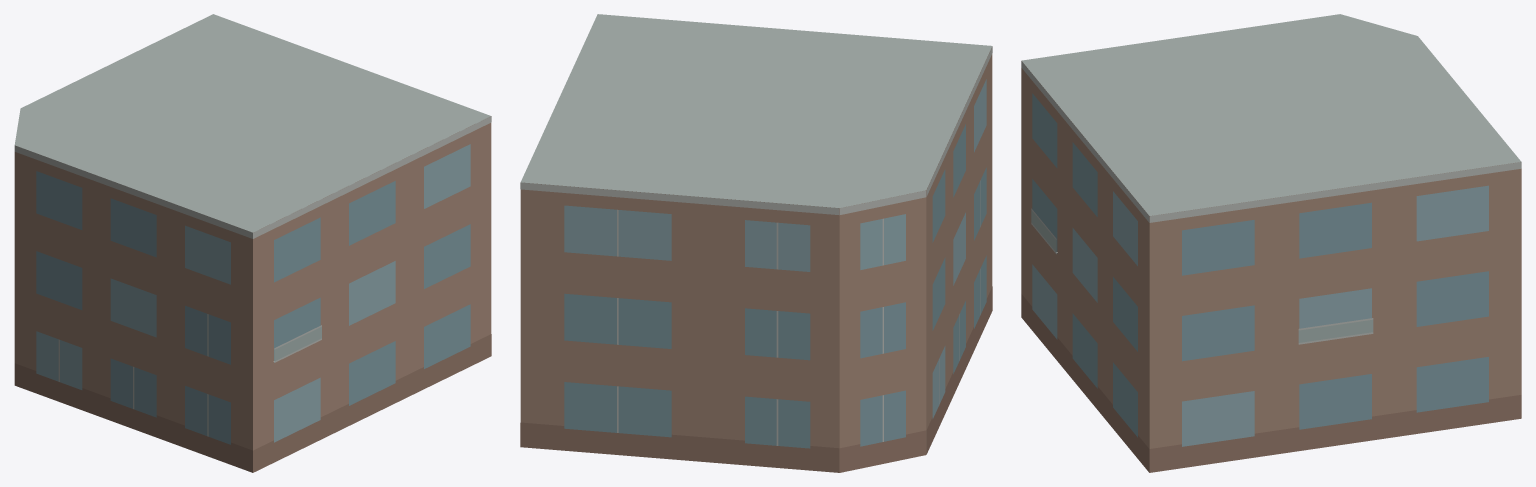
Rendered from survey-upis-32619769.glb.
3 renders of one model, left to right at view 1: azimuth 30°, elevation 25°; view 2: azimuth 150°, elevation 25°; view 3: azimuth 270°, elevation 25°, orthographic. The views are drawn at different scales.
Visible parts, largest first — view 1: survey-upis-32619769.tmp; view 2: survey-upis-32619769.tmp; view 3: survey-upis-32619769.tmp.
Boxes of the visible parts, bbox=[...] form: survey-upis-32619769.tmp: bbox=[14, 14, 491, 472]; survey-upis-32619769.tmp: bbox=[520, 14, 992, 472]; survey-upis-32619769.tmp: bbox=[1021, 14, 1521, 472].
Size of the model in its own units: 15.46 by 9.15 by 16.17.
